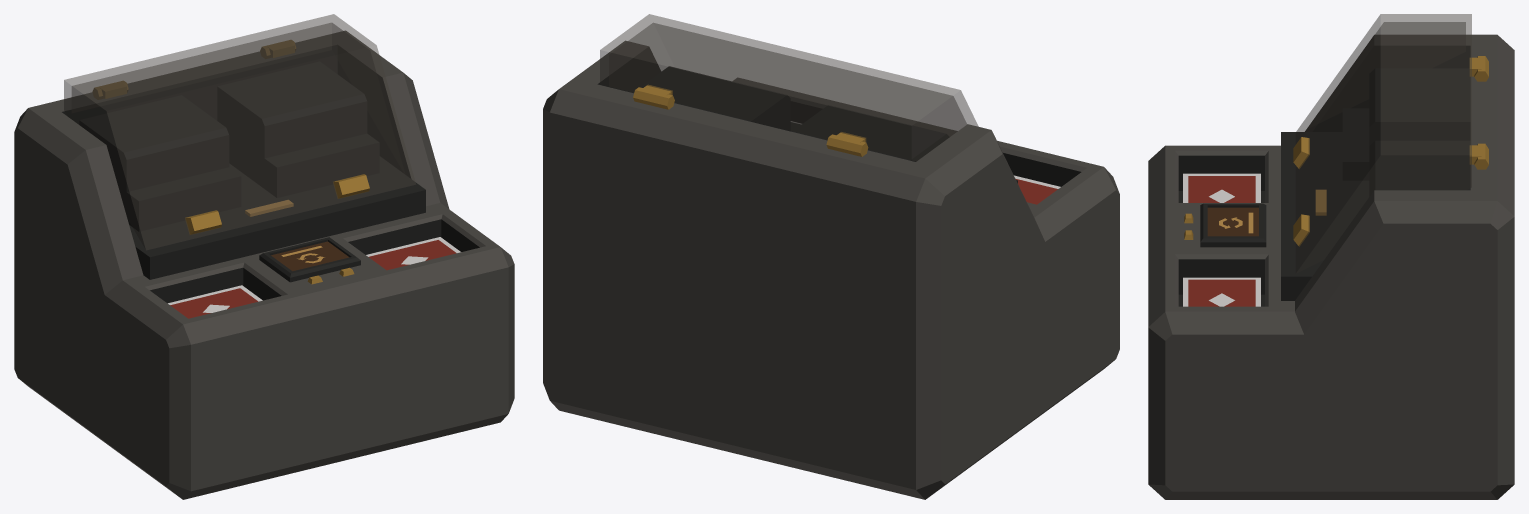
Rendered from automatic-card-shuffler-441610.glb.
3 views of the same model, side by side, from view 1: azimuth 30°, elevation 25°; view 2: azimuth 150°, elevation 25°; view 3: azimuth 270°, elevation 25° (orthographic). The views are drawn at different scales.
Visible parts, largest first — view 1: body, lid-glass, lid-hardware, deck-l-cards, deck-r-cards; view 2: body, lid-glass, deck-l-cards; view 3: body, lid-glass, deck-l-cards, deck-r-cards, lid-hardware.
Boxes of the visible parts, x1,y1,x2,y2 form: body: (14,30,514,499); lid-glass: (64,14,415,250); lid-hardware: (100,42,369,234); deck-l-cards: (168,285,262,318); deck-r-cards: (366,237,460,270); body: (543,40,1119,499); lid-glass: (600,14,978,161); deck-l-cards: (1014,175,1060,204); body: (1148,34,1514,499); lid-glass: (1295,14,1471,273); deck-l-cards: (1183,173,1260,202); deck-r-cards: (1183,277,1260,306); lid-hardware: (1293,57,1481,246).
Size of the model in its own units: 0.35 by 0.3 by 0.3.
